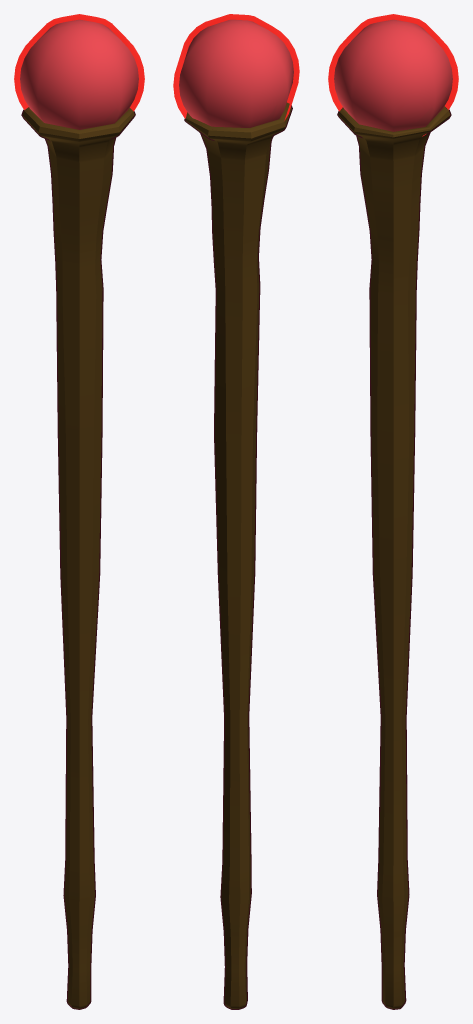
The model's file is placeholder staff.glb.
3 views of the same model, side by side, from view 1: azimuth 90°, elevation 25°; view 2: azimuth 150°, elevation 25°; view 3: azimuth 270°, elevation 25° (orthographic).
Parts seen in each view (by area): view 1: staff body.002, staff crystal.002; view 2: staff body.002, staff crystal.002; view 3: staff body.002, staff crystal.002.
Part boxes in pixels (x1=…): staff body.002: x1=21, y1=107, x2=135, y2=1009; staff crystal.002: x1=14, y1=14, x2=144, y2=129; staff body.002: x1=184, y1=102, x2=292, y2=1009; staff crystal.002: x1=173, y1=14, x2=299, y2=127; staff body.002: x1=337, y1=106, x2=451, y2=1009; staff crystal.002: x1=328, y1=14, x2=458, y2=136.
Bounding box in the file's own units: 0.2639 × 2.2 × 0.2639.
